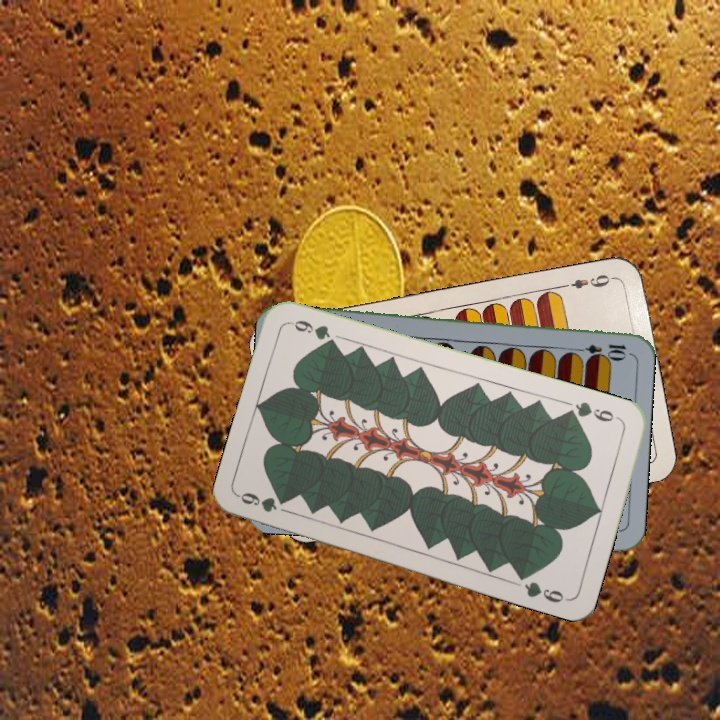E10: (570, 340, 629, 359)
E9: (558, 270, 617, 292)
G9: (563, 397, 623, 425), (236, 488, 286, 515)
